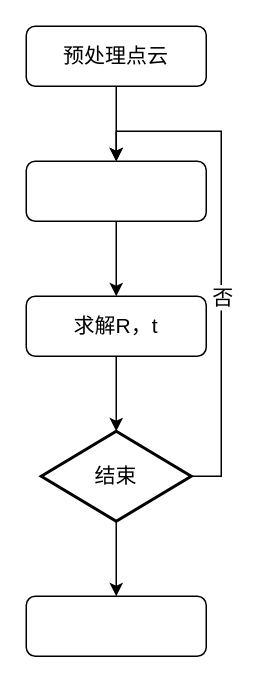
Some shapes in this 260 by 683 pixel diagram are drawn without their labels. The shapes that lost their labels are listed below. From the top down, each one's centre as x and y in pixels, then its label:
At pixel 115 190: "最近邻关键点".
At pixel 115 625: "输出R，t".
